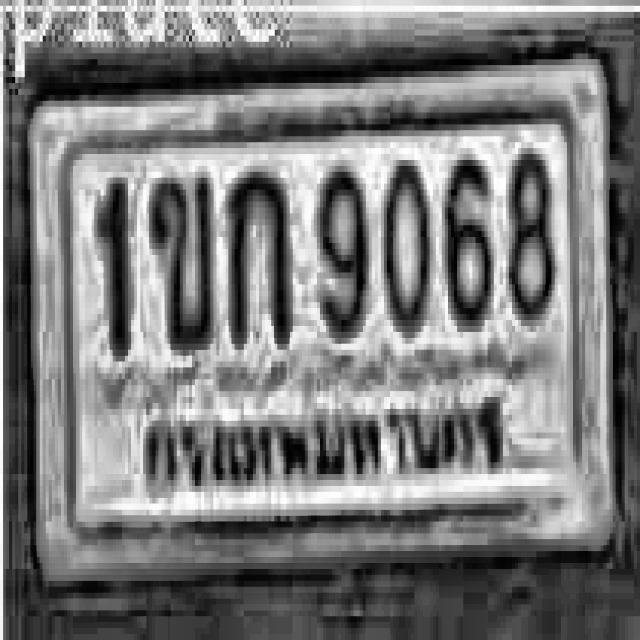license-plate: (21, 44, 620, 598)
